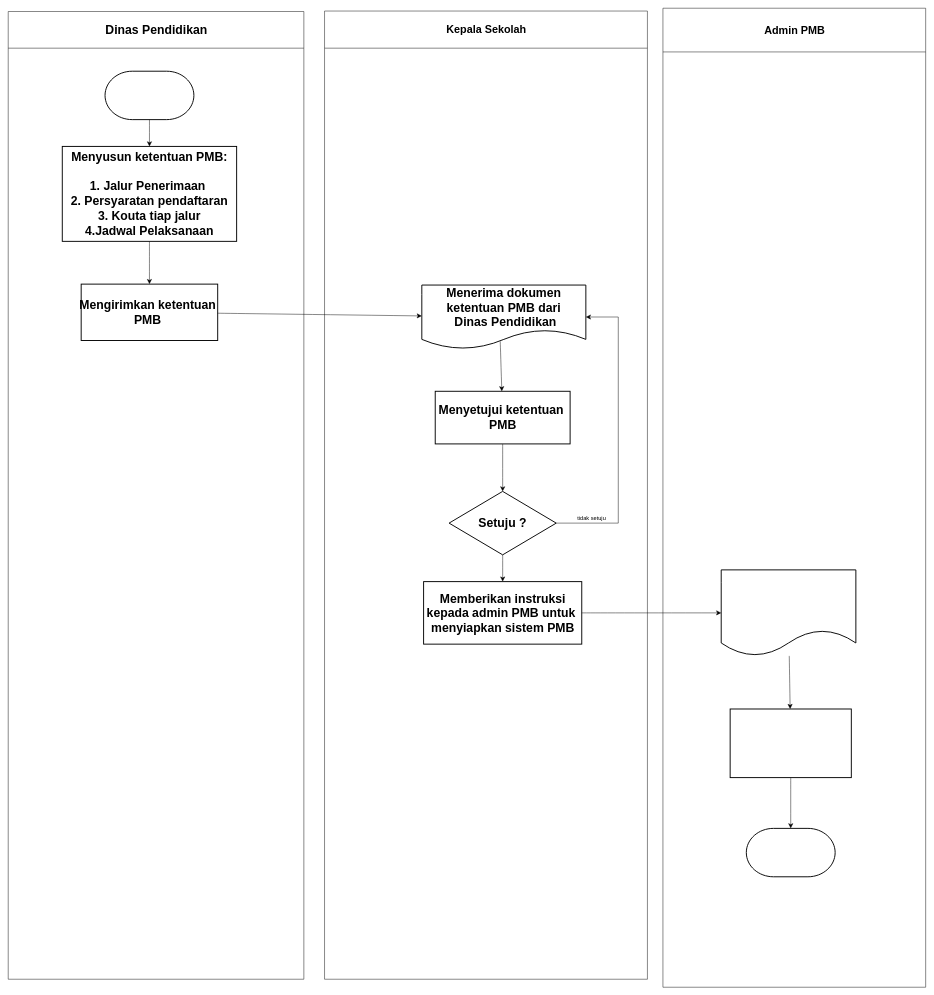
Image size: 934x995. Some labels were removed from this diagram. Each missing label, with the centre of its shape:
Menerima instruksi dari kepala sekolah: (x=788, y=612)
Menyiapkan sistem PMB (sesuai ketentuan yang ditetapkan): (x=790, y=743)
Mulai: (x=149, y=95)
Selesai: (x=790, y=852)
